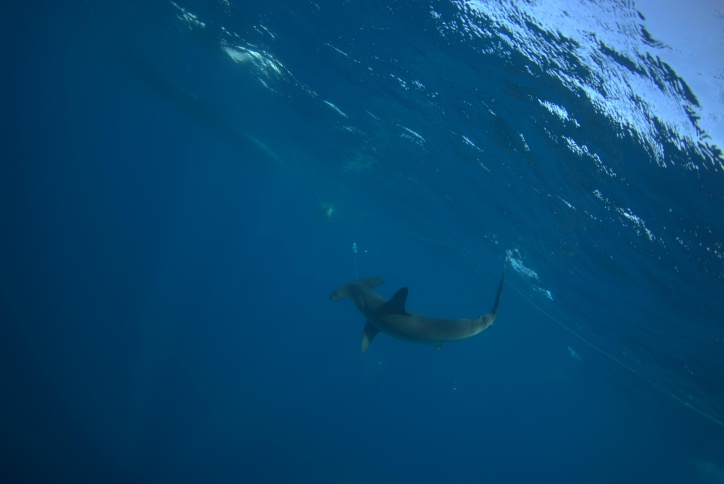Hammer: (328, 238, 527, 375)
